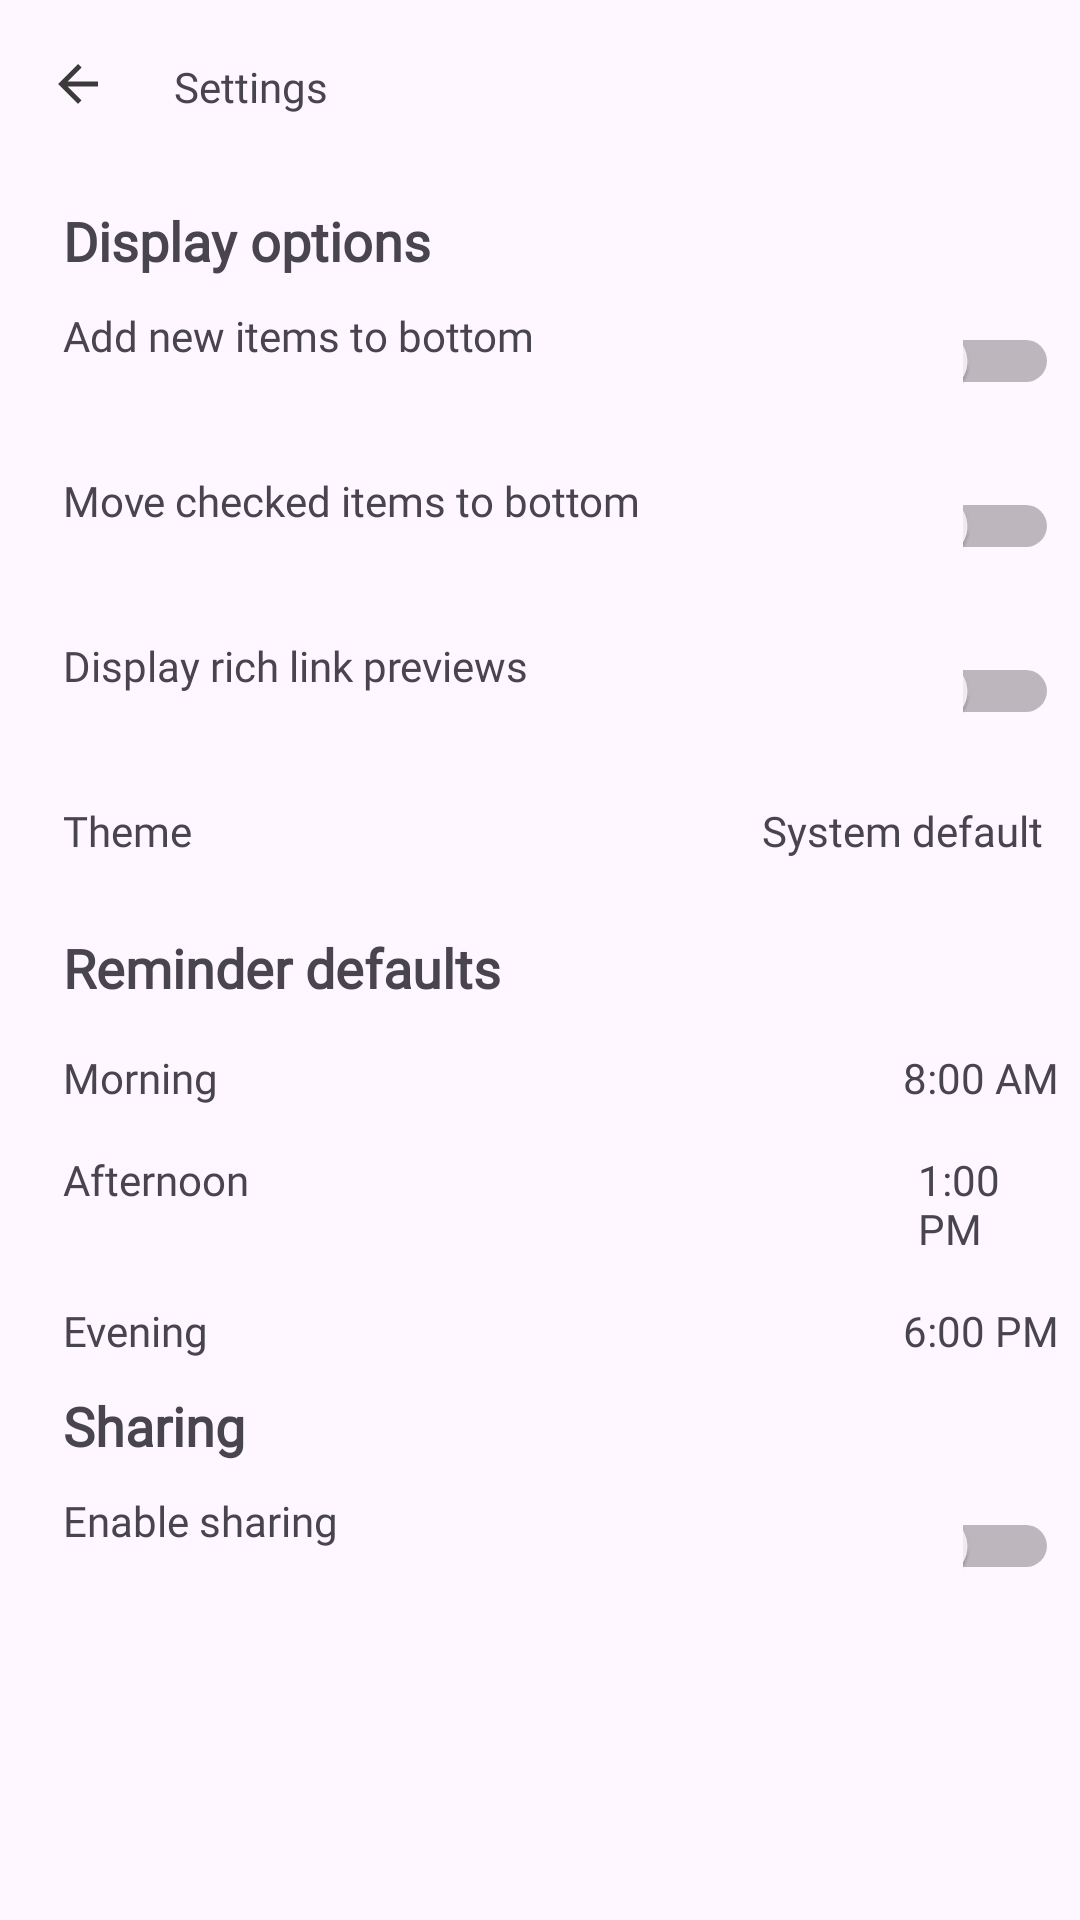

Icons on this 1080w x 1920h Android screen, each with the point to tap as [x,y]:
back arrow: [78,84]
